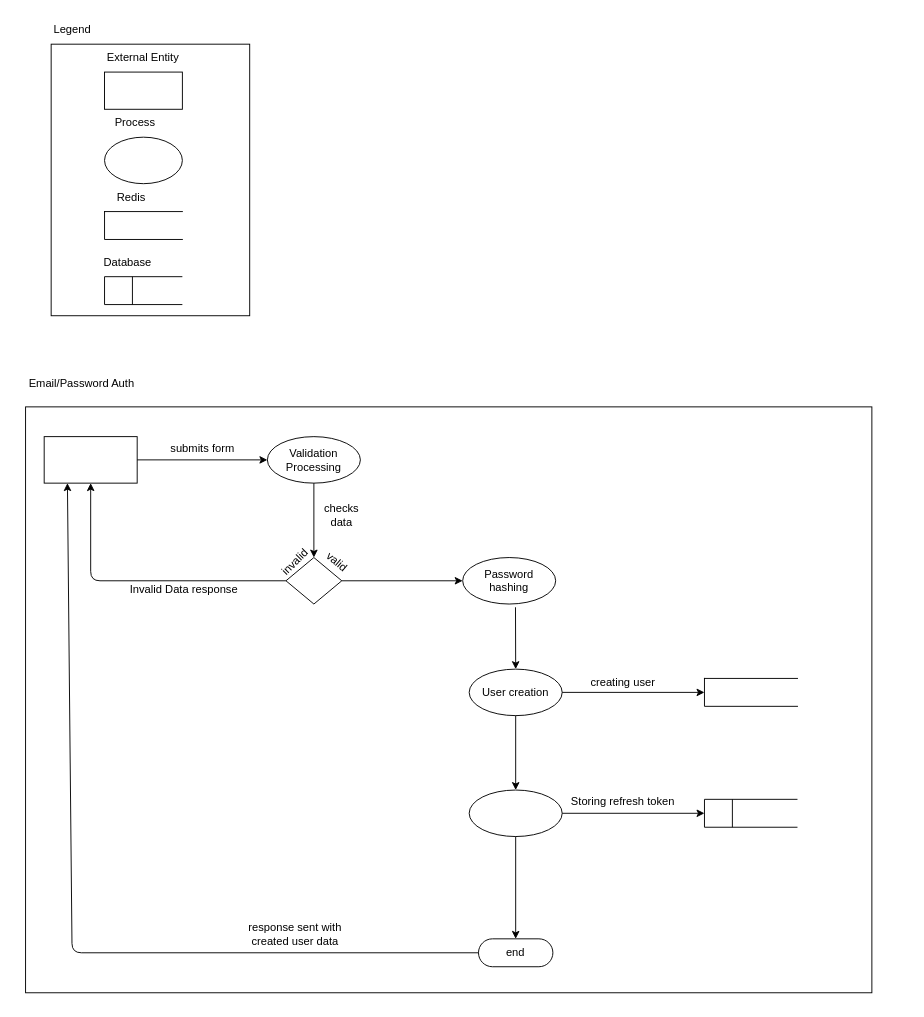
This 924x1017 diagram has some shape labels left out. The centre of each missing label's shape, as x and y in pixels:
"Token generatoin" belongs at point 515,813.
"User" belongs at point 90,459.
